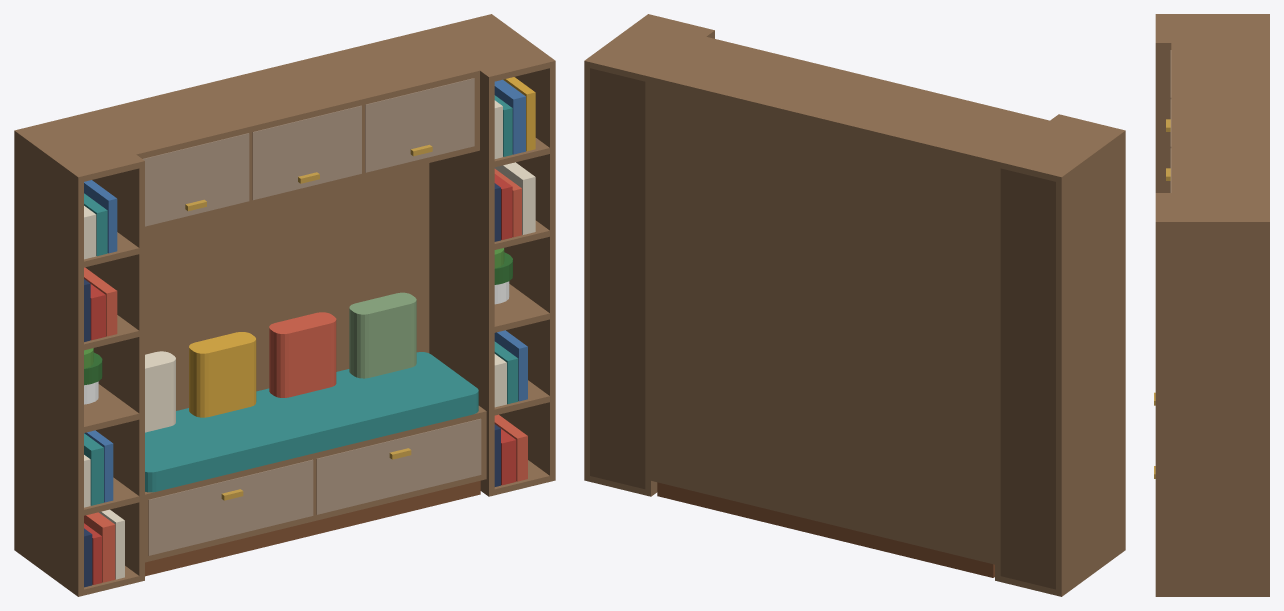
File: cushioned_bench.glb
3 views of the same model, side by side, from view 1: azimuth 30°, elevation 25°; view 2: azimuth 150°, elevation 25°; view 3: azimuth 270°, elevation 25° (orthographic). The views are drawn at different scales.
Parts seen in each view (by area): view 1: cushioned_bench_Body; view 2: cushioned_bench_Body; view 3: cushioned_bench_Body.
Boxes of the visible parts, x1,y1,x2,y2 form: cushioned_bench_Body: (14, 14, 555, 596); cushioned_bench_Body: (584, 14, 1125, 596); cushioned_bench_Body: (1154, 14, 1269, 596).
Bounding box in the file's own units: 2.5 × 2.1 × 0.588.
